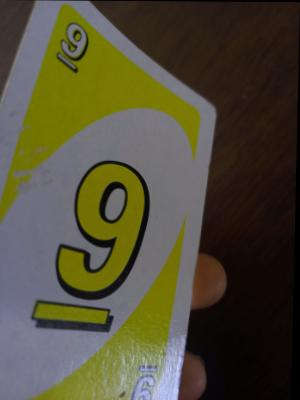num_9: (23, 129, 167, 347)
yellow: (37, 11, 96, 119)
